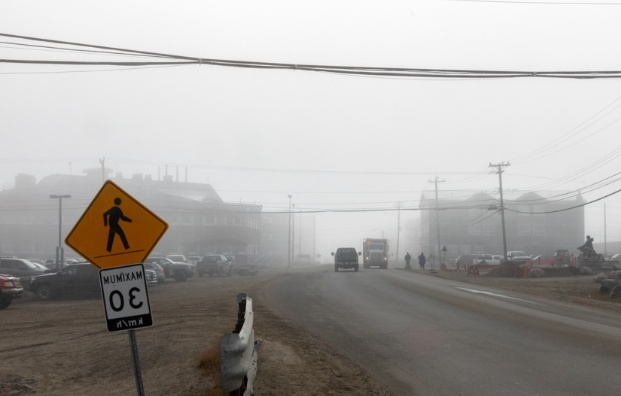Pedestrian crossing: (56, 174, 164, 279)
